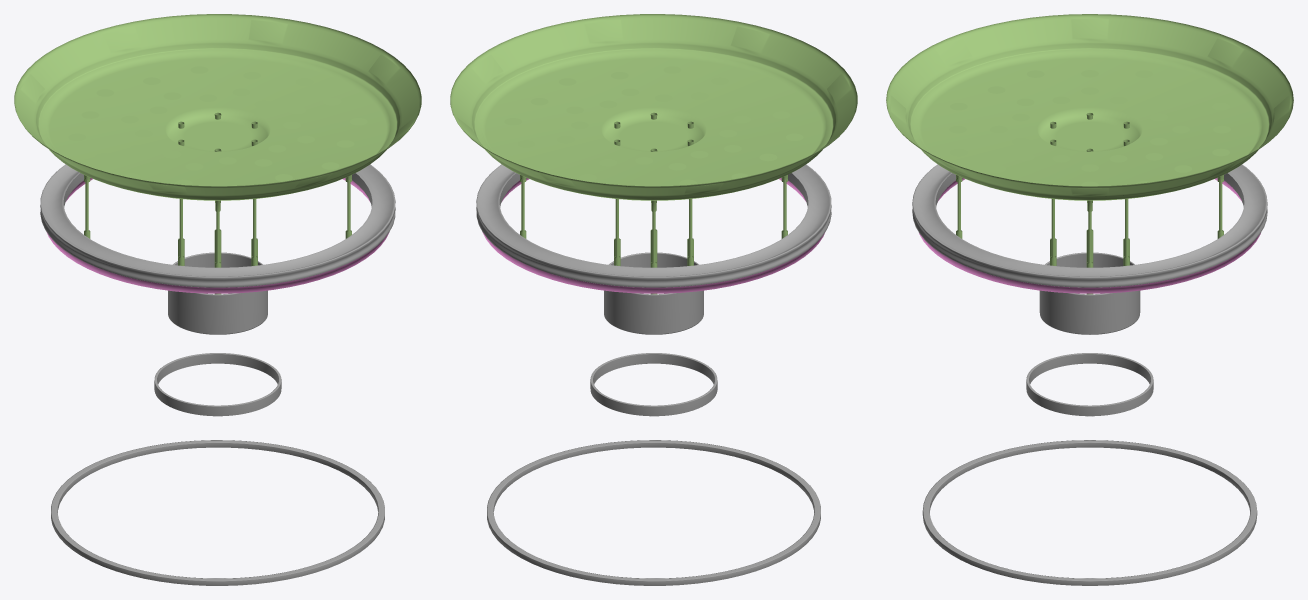
Rendered from ObservationRoomLightBase.fbx.
3 views of the same model, side by side, from view 1: azimuth 30°, elevation 25°; view 2: azimuth 150°, elevation 25°; view 3: azimuth 270°, elevation 25° (orthographic).
Parts seen in each view (by area): view 1: ObservationRoomLightBase001; view 2: ObservationRoomLightBase001; view 3: ObservationRoomLightBase001.
Boxes of the visible parts, x1=… form: ObservationRoomLightBase001: x1=14, y1=14, x2=421, y2=585; ObservationRoomLightBase001: x1=450, y1=14, x2=857, y2=585; ObservationRoomLightBase001: x1=886, y1=14, x2=1293, y2=585.
Size of the model in its own units: 605 by 680 by 605.
